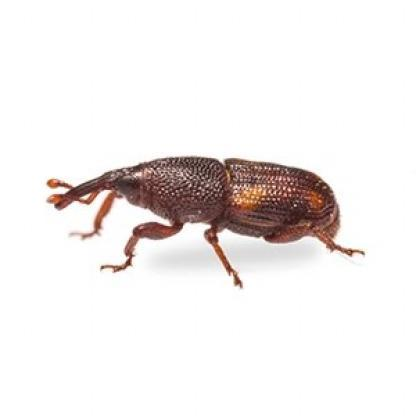rice-bug: (48, 155, 348, 246)
